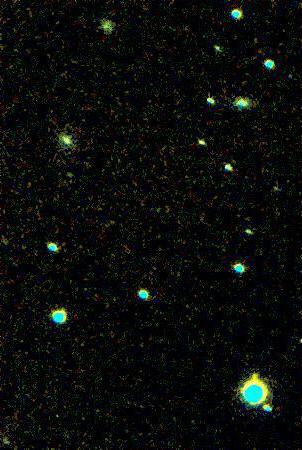star: (242, 362, 272, 392)
